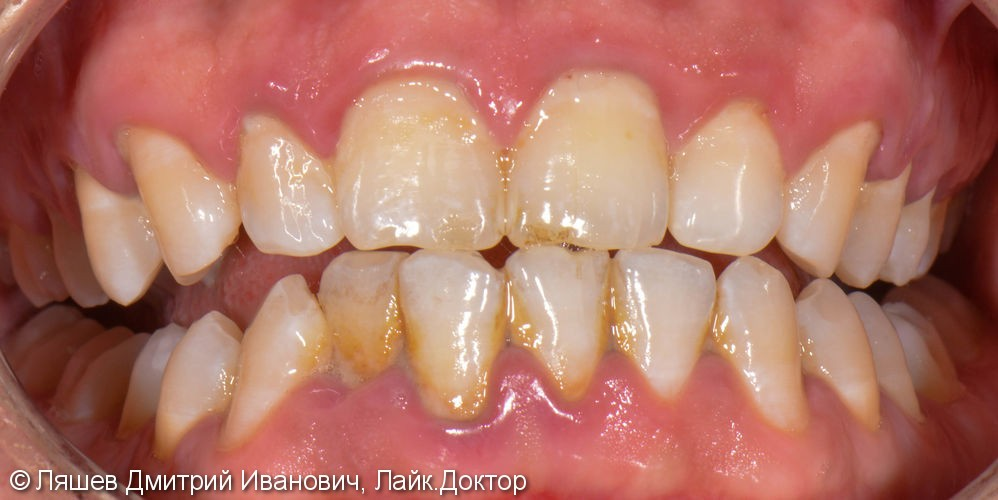LL1BC_healthy: (810, 292, 885, 434)
LLCI_decay: (504, 243, 611, 413)
LLC_decay: (722, 254, 807, 430)
LLLI_decay: (616, 245, 718, 399)
LR1BC_healthy: (150, 310, 240, 455)
LRCI_decay: (400, 244, 509, 419)
LRC_healthy: (227, 271, 327, 446)
LRLI_decay: (322, 253, 403, 398)
UL1BC_healthy: (837, 175, 911, 296)
ULCI_healthy: (498, 71, 667, 251)
ULC_healthy: (776, 123, 843, 280)
ULLI_healthy: (670, 91, 782, 254)
UR1BC_healthy: (74, 170, 161, 307)
URCI_healthy: (342, 74, 506, 256)
URC_healthy: (123, 127, 240, 285)
URLI_healthy: (230, 114, 340, 256)
